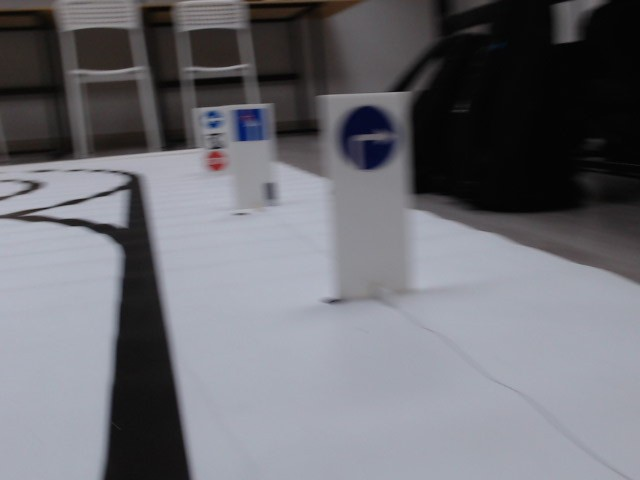Right: (333, 105, 402, 170)
priority_movement: (232, 108, 269, 141)
